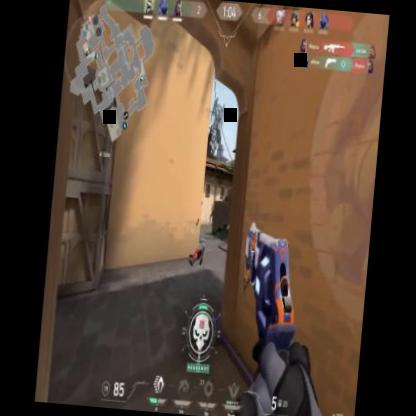enemy: (209, 204, 214, 226)
enemy_head: (212, 206, 214, 209)
